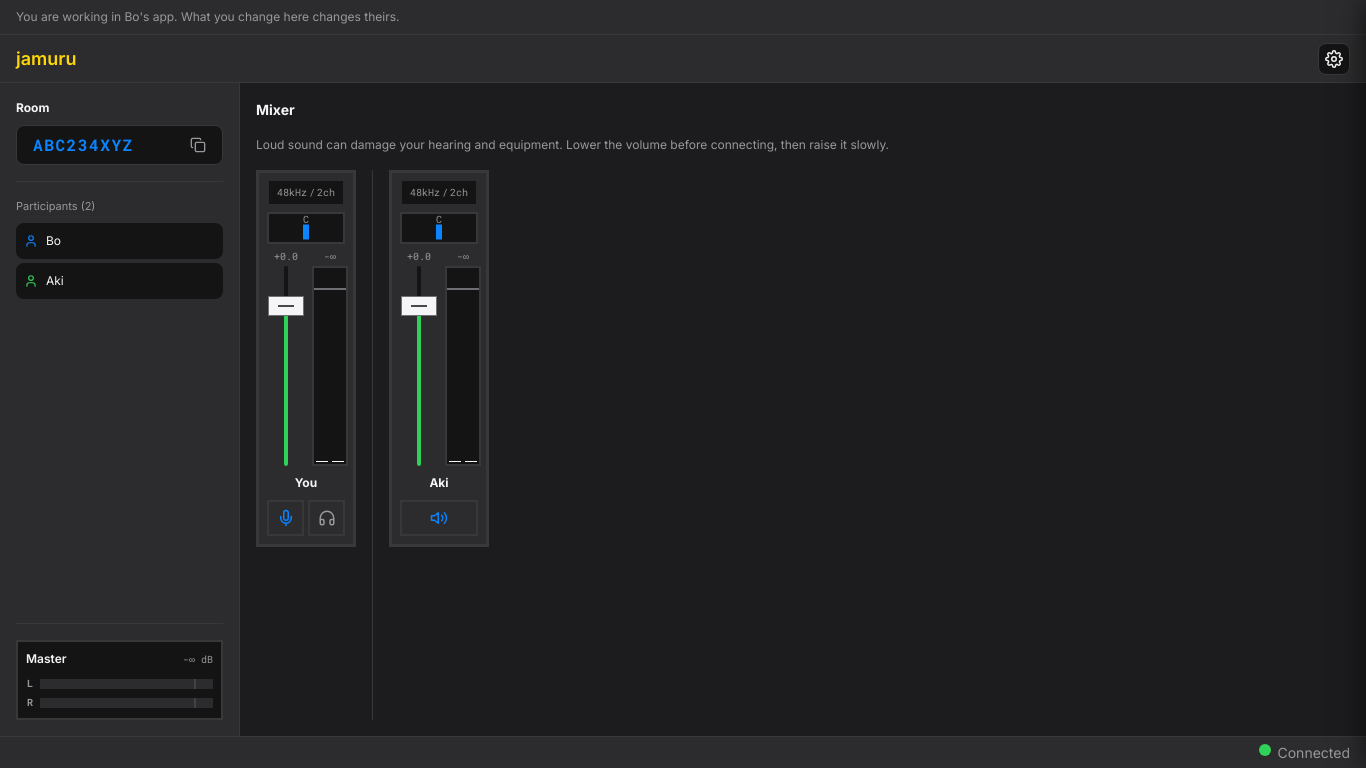
HelperScreen › 設定ボタンを押したとき、相手の音声の設定が読まれて手伝い用のパネルに出ること
Check: the text "ABC234XYZ" is shown, box [33,133,134,157]
Click the button named "Settings".
click(1334, 58)  # box [1318,42,1350,74]
(page scrolled)
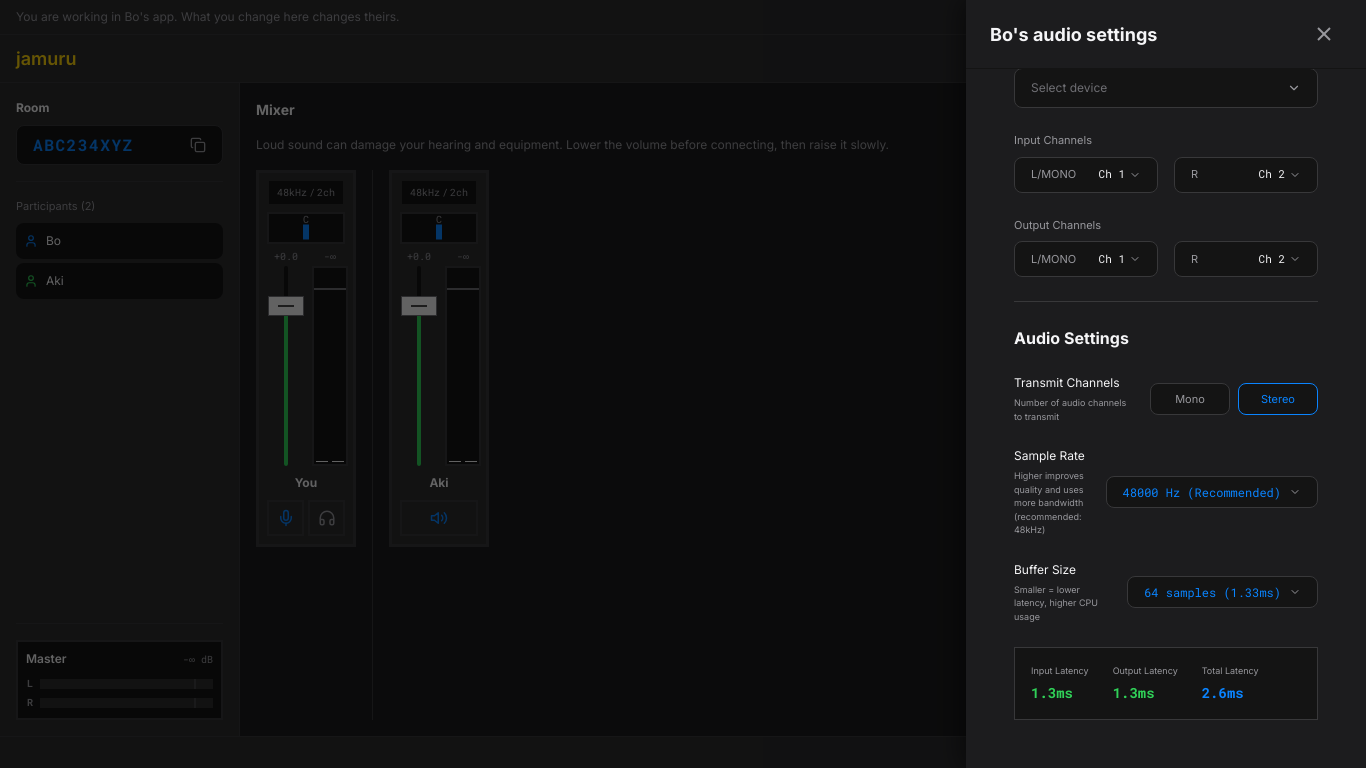
Check: the label with id "buffer-size" holds "64", box [1014,562,1076,576]
